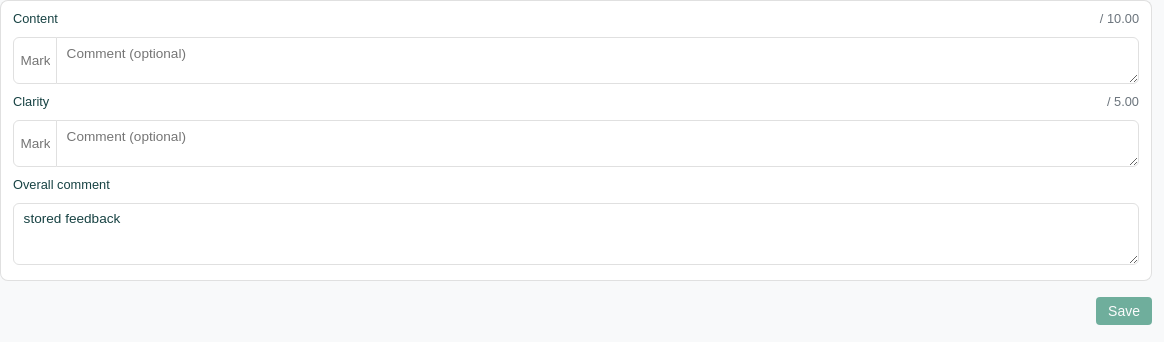
Test case: what counts as an unsaved edit › an edited overall comment is an unsaved edit too
expect the submit button is disabled: met, box [1096,297,1152,325]
Replace the text in the text box with class "rubric-form__overall-input" with "new feedback" at (576, 234), box [13,203,1139,265]
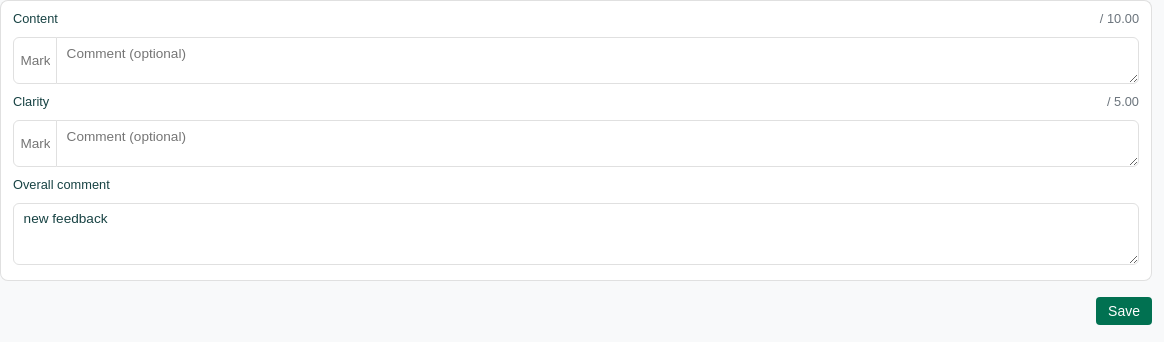
expect the submit button is enabled: met, box [1096,297,1152,325]
